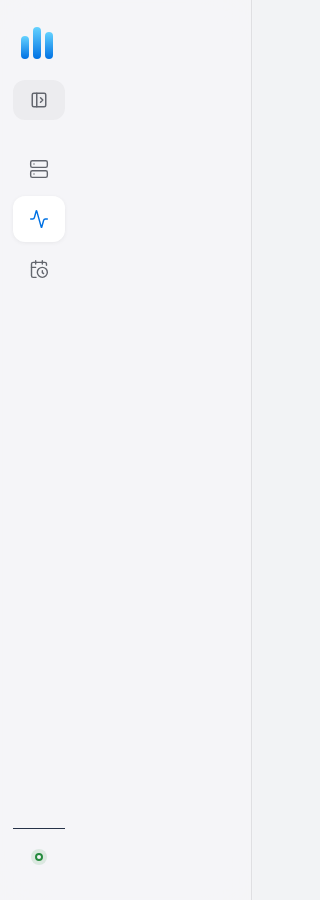
Test: shows a stable rail, previews on mouse hover, and closes after the exit delay
This screenshot has width=320, height=900.
Later steps or results of the test are not shown.
Hover over the element named "主要導覽".
mouse_move(126, 450)  # box 0,0 -> 252,899
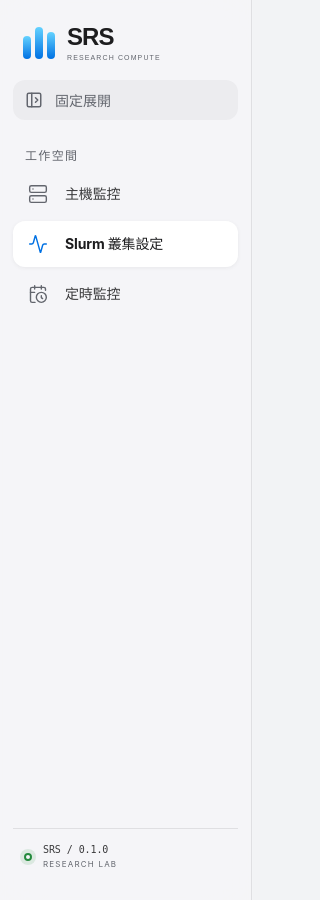
expect the element named "主要導覽" has class "sidebar-expanded" "sidebar-preview": met
Move the pointer off the element named "主要導覽"
Wait 220 ms
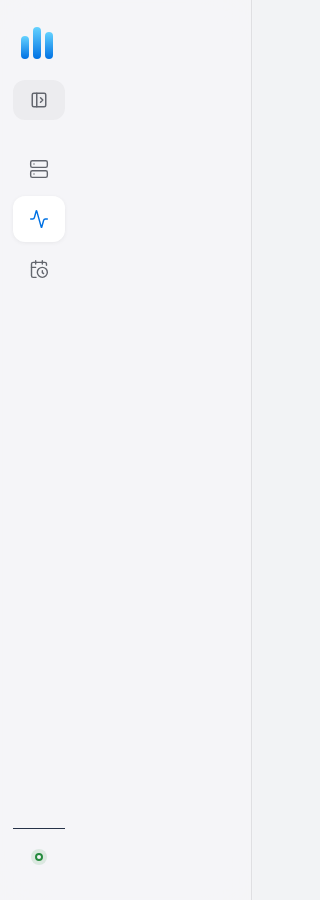
expect the element named "主要導覽" has class "sidebar-rail": met
